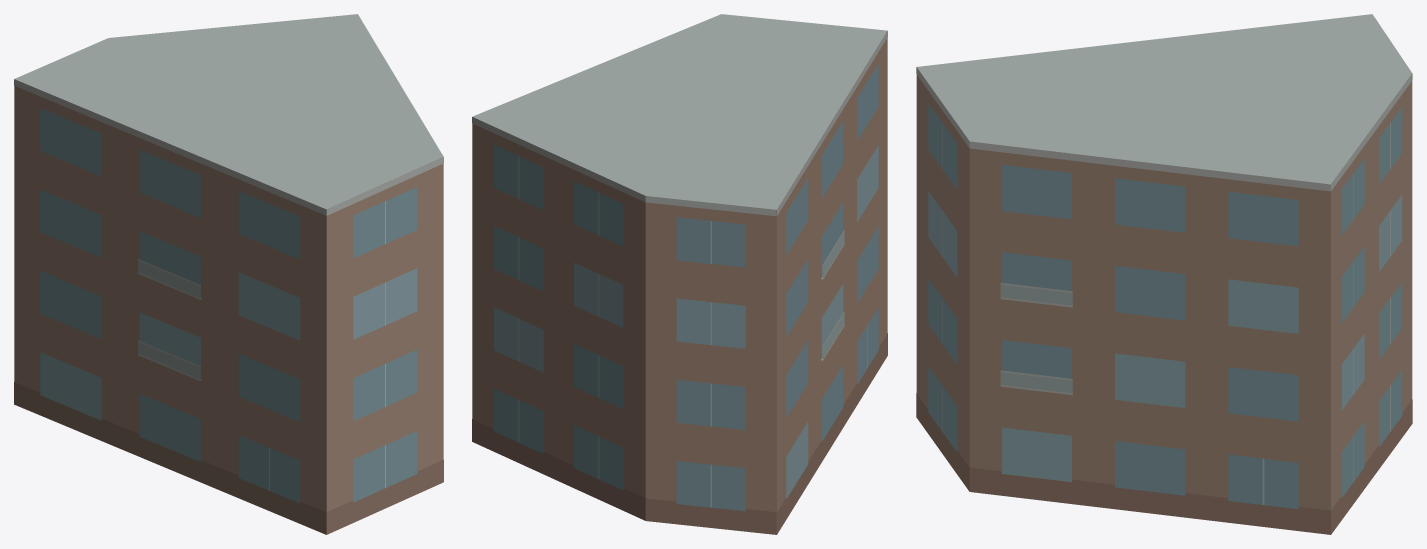
File: survey-upis-32577861.glb
3 renders of one model, left to right at view 1: azimuth 30°, elevation 25°; view 2: azimuth 150°, elevation 25°; view 3: azimuth 270°, elevation 25°, orthographic. The views are drawn at different scales.
Parts seen in each view (by area): view 1: survey-upis-32577861.tmp; view 2: survey-upis-32577861.tmp; view 3: survey-upis-32577861.tmp.
Part boxes in pixels (x1=…): survey-upis-32577861.tmp: x1=14, y1=14, x2=443, y2=534; survey-upis-32577861.tmp: x1=472, y1=14, x2=887, y2=534; survey-upis-32577861.tmp: x1=916, y1=14, x2=1412, y2=534.
Bounding box in the file's own units: 12.74 × 12.2 × 15.66.
